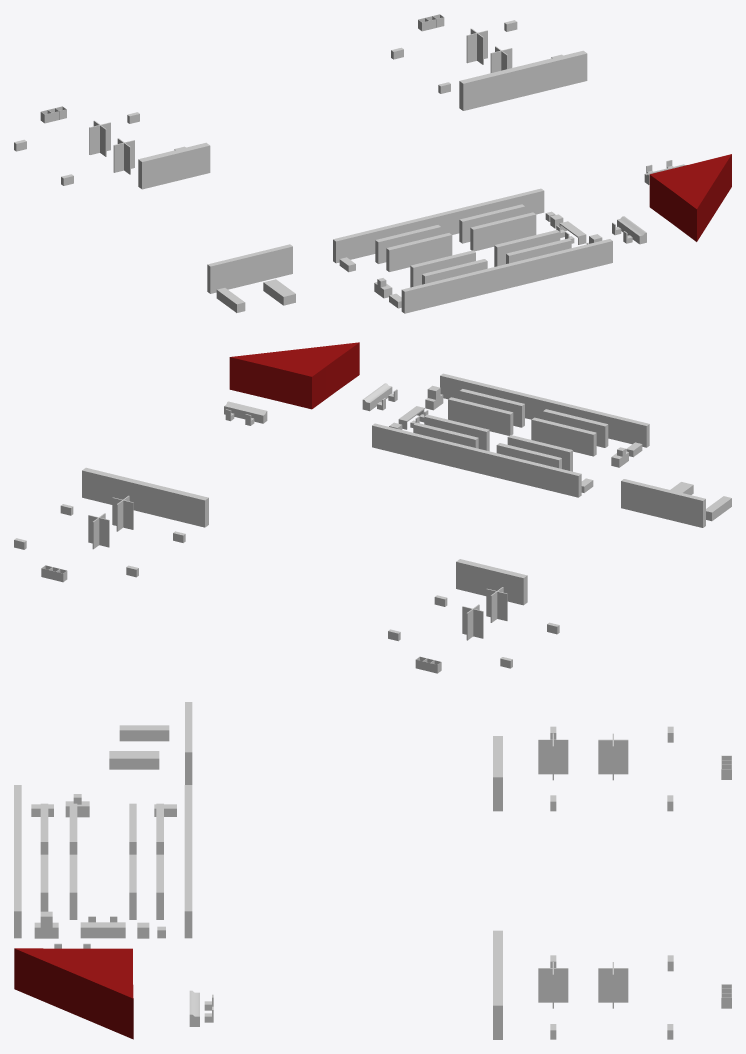
File: PropsWBP-1.fbx
The picture shows the model from 3 angles, top to bottom: view 1: azimuth 30°, elevation 25°; view 2: azimuth 150°, elevation 25°; view 3: azimuth 270°, elevation 25°; orthographic projection. The views are drawn at different scales.
Visible parts, largest first — view 1: Box078, Reactor, ArmarioHuecos001, Box077, Box097, ArmarioHuecos, Box081, Box082, Box080, Box083, Box084, Box079 (+3 smaller); view 2: Reactor, Box077, ArmarioHuecos001, Box078, Box097, ArmarioHuecos, Box079, Box080, Box086, Box085, Box081, Box082 (+3 smaller); view 3: Reactor, Box077, Box078, ArmarioHuecos001, Box056, Box062, Box072, Box070, Box098, Box099, Mesa006, ArmarioHuecos (+2 smaller).
Boxes of the visible parts, x1,y1,x2,y2 form: Box078: [401, 239, 612, 313]; Reactor: [649, 154, 731, 241]; ArmarioHuecos001: [459, 50, 587, 110]; Box077: [333, 188, 544, 263]; Box097: [207, 244, 292, 293]; ArmarioHuecos: [138, 142, 210, 189]; Box081: [470, 212, 536, 251]; Box082: [386, 233, 452, 271]; Box080: [494, 230, 560, 266]; Box083: [459, 204, 525, 243]; Box084: [375, 225, 441, 263]; Box079: [410, 250, 475, 287]; Reactor: [229, 342, 359, 409]; Box077: [372, 423, 581, 497]; ArmarioHuecos001: [82, 467, 208, 527]; Box078: [440, 373, 649, 447]; Box097: [621, 479, 705, 527]; ArmarioHuecos: [456, 559, 527, 605]; Box079: [531, 417, 596, 456]; Box080: [448, 397, 513, 435]; Box086: [543, 409, 608, 447]; Box085: [459, 389, 524, 427]; Box081: [424, 414, 489, 451]; Box082: [507, 435, 572, 471]; Reactor: [14, 948, 133, 1039]; Box077: [184, 785, 192, 938]; Box078: [14, 785, 21, 938]; ArmarioHuecos001: [493, 930, 502, 1039]; Box056: [538, 739, 568, 774]; Box062: [598, 739, 628, 774]; Box072: [598, 968, 628, 1002]; Box070: [538, 968, 568, 1002]; Box098: [109, 751, 159, 769]; Box099: [119, 725, 169, 741]; Mesa006: [80, 922, 125, 938]; ArmarioHuecos: [493, 736, 502, 811].
Bounding box in the file's own units: 4785 × 301 × 4782.
